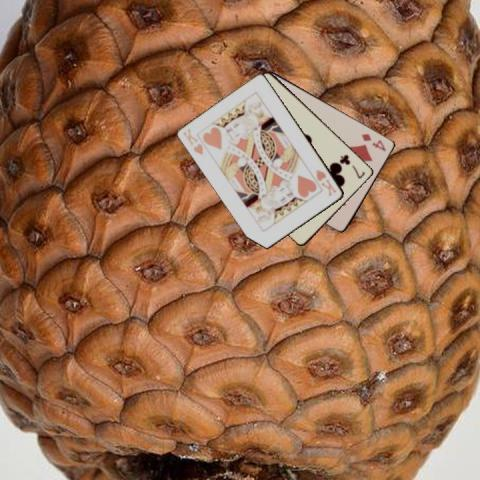4d: (359, 131, 387, 152)
7c: (337, 151, 367, 180)
Kh: (313, 167, 338, 198), (180, 125, 205, 156)
